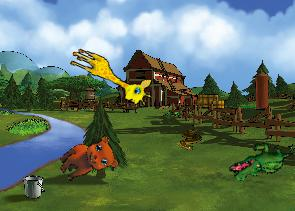bear: (53, 128, 124, 194)
crocodile: (226, 129, 294, 195)
giraffe: (63, 45, 157, 109)
